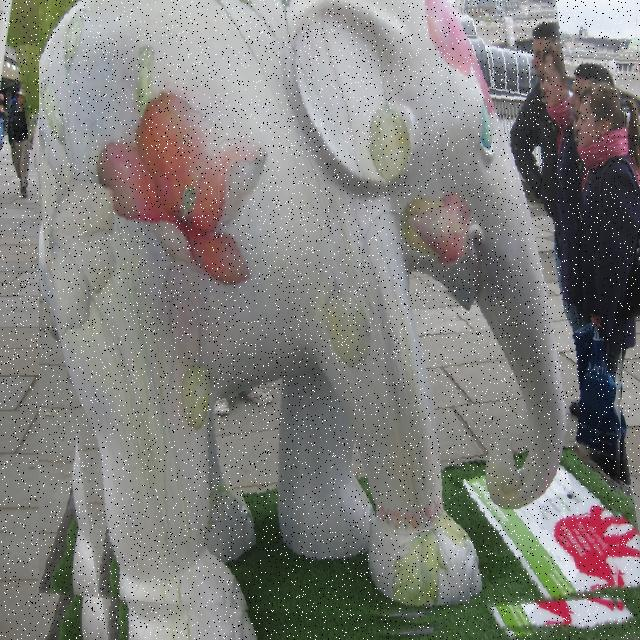elephant: (39, 0, 627, 640)
